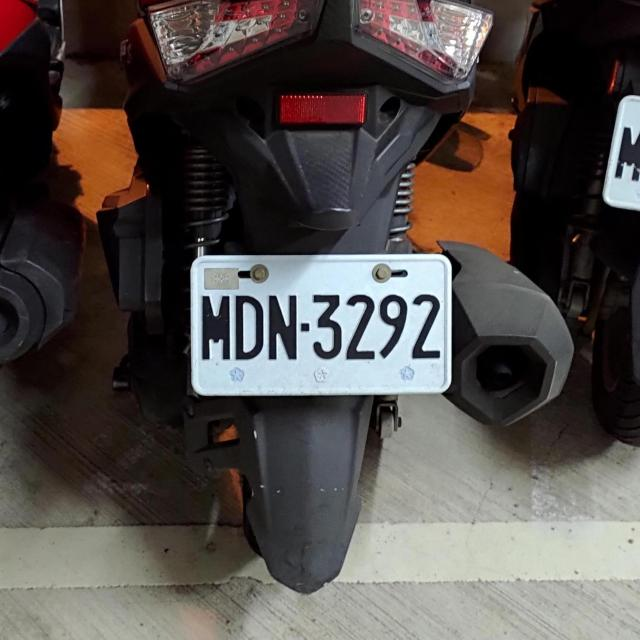W: (185, 249, 452, 397), (597, 89, 640, 244)
